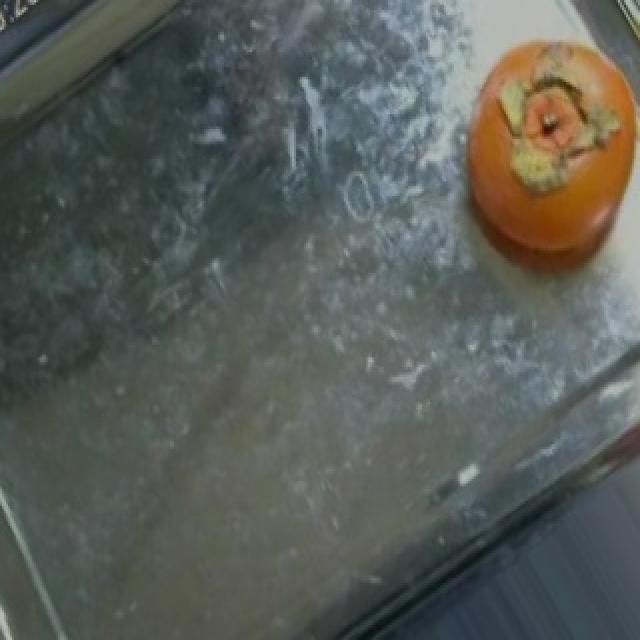Fruit: (438, 10, 638, 312)
